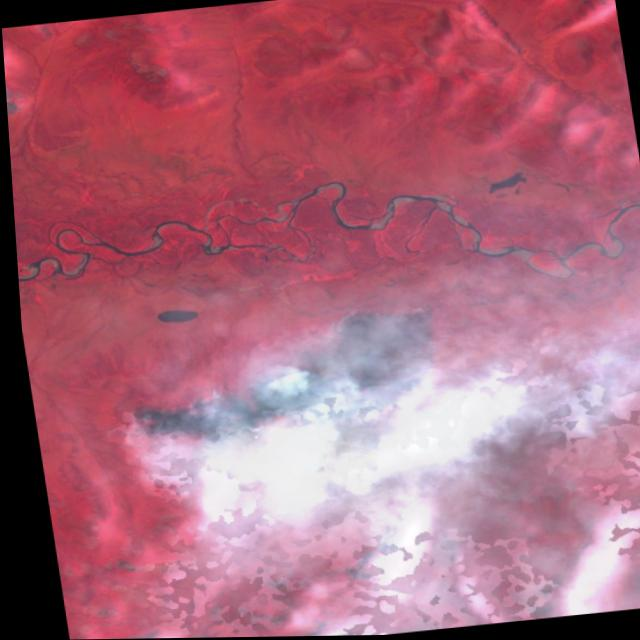fire: (108, 294, 464, 481)
